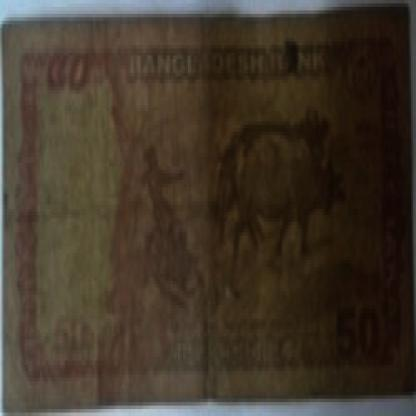Fifty taka: (330, 302, 388, 392), (35, 49, 95, 128)
